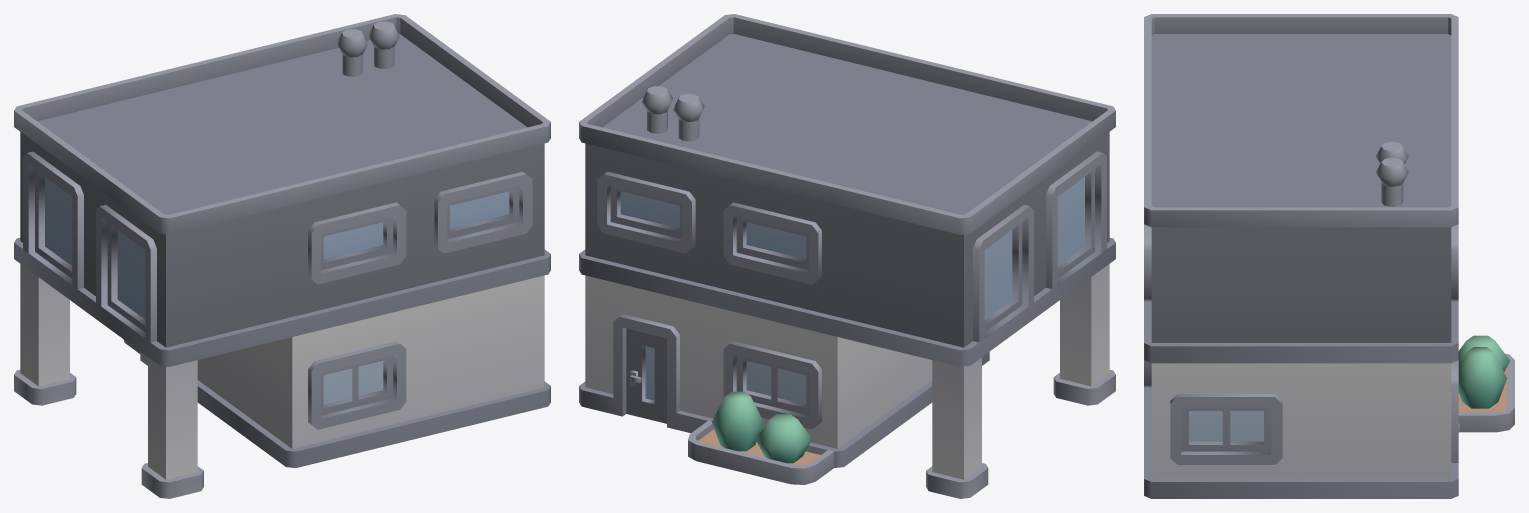
Rendered from building-type-p.glb.
The picture shows the model from 3 angles, left to right: view 1: azimuth 30°, elevation 25°; view 2: azimuth 150°, elevation 25°; view 3: azimuth 270°, elevation 25°; orthographic projection. The views are drawn at different scales.
Parts seen in each view (by area): view 1: building-type-p; view 2: building-type-p; view 3: building-type-p.
Part boxes in pixels (x1,y1,x2,y2): building-type-p: (14,14,550,498); building-type-p: (579,14,1115,498); building-type-p: (1144,14,1514,498).
Bounding box in the file's own units: 1.24 × 0.918 × 0.99.
